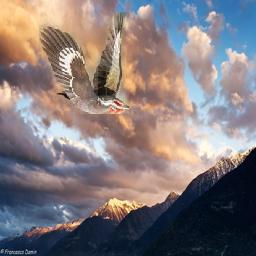Woodpecker: (39, 12, 129, 114)
